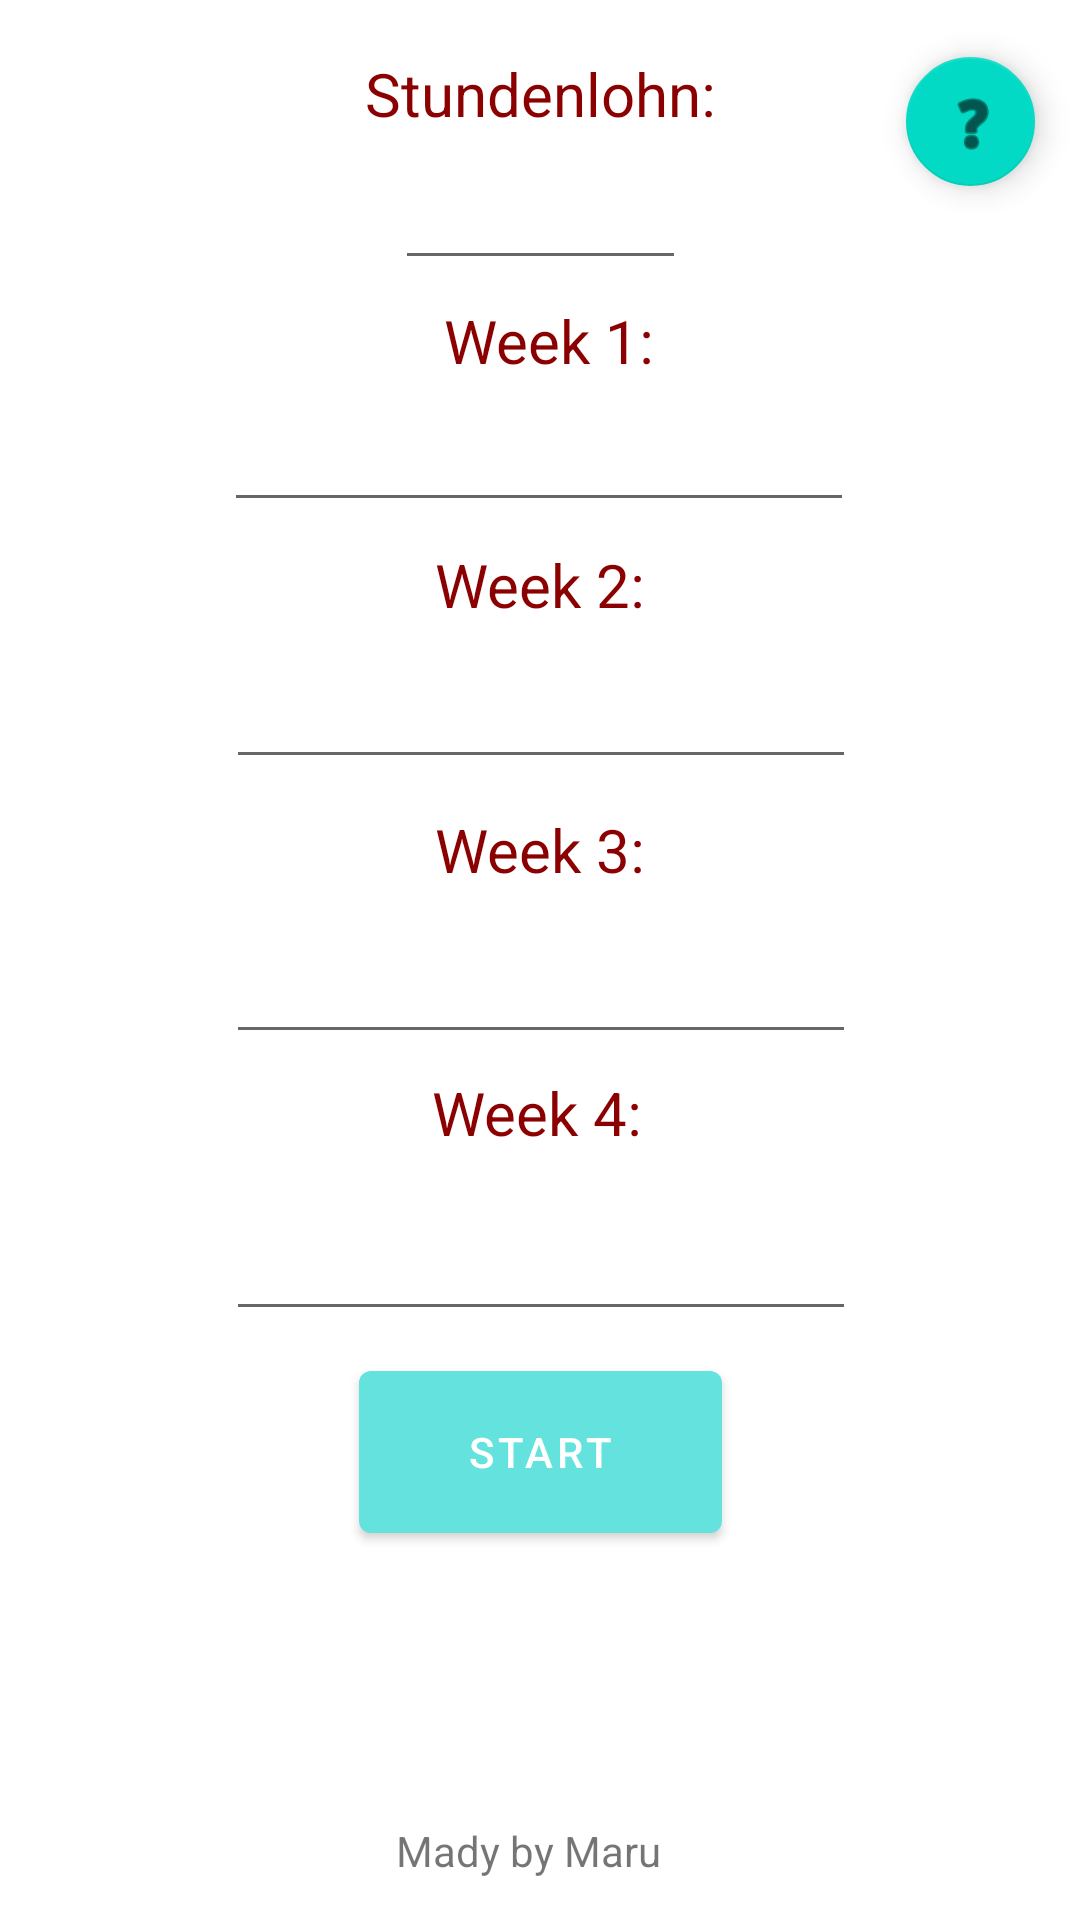

Point at icon controls on the screen. Image size 1080 × 1920, points as (x,y).
help: (971,121)
